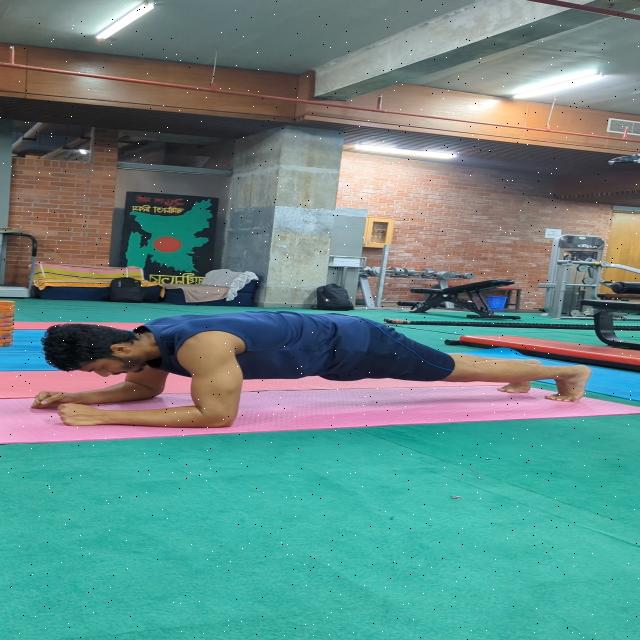Normal_Plunk: (22, 296, 584, 446)
